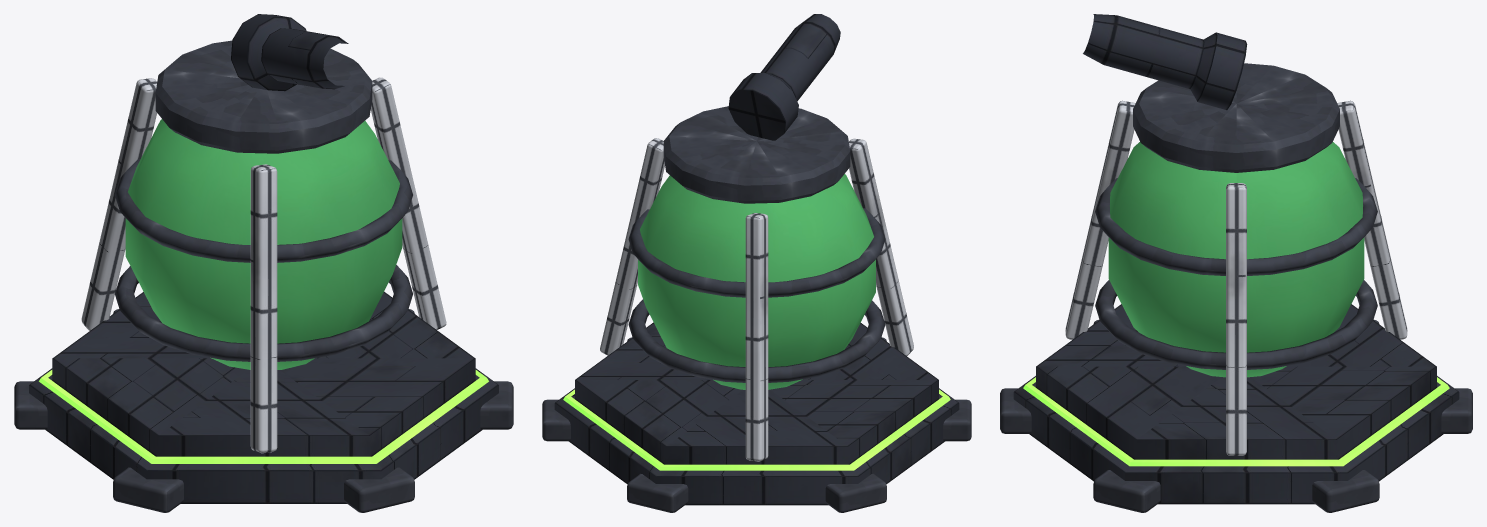
File: sf_acid.glb
The picture shows the model from 3 angles, left to right: view 1: azimuth 30°, elevation 25°; view 2: azimuth 150°, elevation 25°; view 3: azimuth 270°, elevation 25°; orthographic projection. The views are drawn at different scales.
Parts seen in each view (by area): view 1: Base, Turret; view 2: Base, Turret; view 3: Base, Turret.
Part boxes in pixels (x1,y1,x2,y2): Base: [14, 77, 513, 512]; Turret: [155, 14, 372, 153]; Base: [542, 138, 971, 512]; Turret: [663, 14, 850, 203]; Base: [1000, 100, 1472, 512]; Turret: [1083, 14, 1339, 172].
Size of the model in its own units: 0.8425 by 0.8669 by 0.9128.
Materials: 5 (5 with a texture image).
